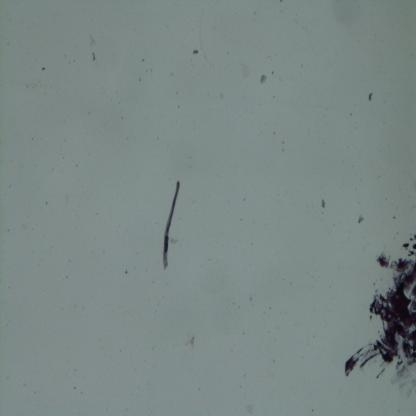Background material: (198, 7, 208, 61), (237, 62, 252, 80), (186, 333, 194, 348), (245, 402, 253, 416), (367, 92, 375, 104), (90, 50, 98, 62), (356, 213, 364, 225), (260, 72, 267, 85), (88, 35, 95, 48), (320, 197, 326, 208), (281, 141, 285, 153), (192, 49, 200, 55), (41, 64, 46, 72), (248, 294, 253, 302), (219, 92, 224, 100), (137, 77, 142, 83), (170, 72, 175, 78), (272, 130, 276, 137), (149, 68, 153, 74), (142, 56, 145, 64), (300, 63, 304, 69), (44, 200, 48, 205), (268, 306, 272, 311), (270, 70, 274, 75), (124, 270, 128, 275), (312, 334, 316, 338), (272, 358, 276, 362), (350, 112, 353, 117), (242, 330, 245, 335), (301, 356, 305, 359), (279, 0, 283, 3), (197, 387, 200, 391), (146, 68, 148, 74), (238, 305, 240, 310), (271, 374, 273, 378), (76, 164, 78, 168), (176, 91, 178, 95), (152, 346, 154, 350), (244, 374, 246, 377), (80, 391, 82, 394), (178, 105, 180, 108), (74, 369, 76, 371), (74, 387, 76, 389)
Cotton: (161, 179, 183, 269)
Pen: (343, 229, 416, 394)
